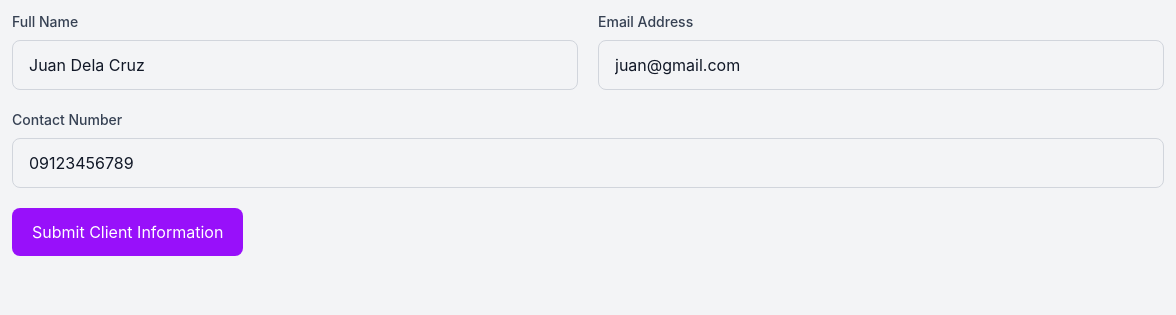
Test: ClientInformation Component › shows success message when all fields are complete
The image size is (1176, 315).
Click the button "Submit Client Information". click: point(128, 232)
box: top-left (12, 208), bottom-right (243, 256)
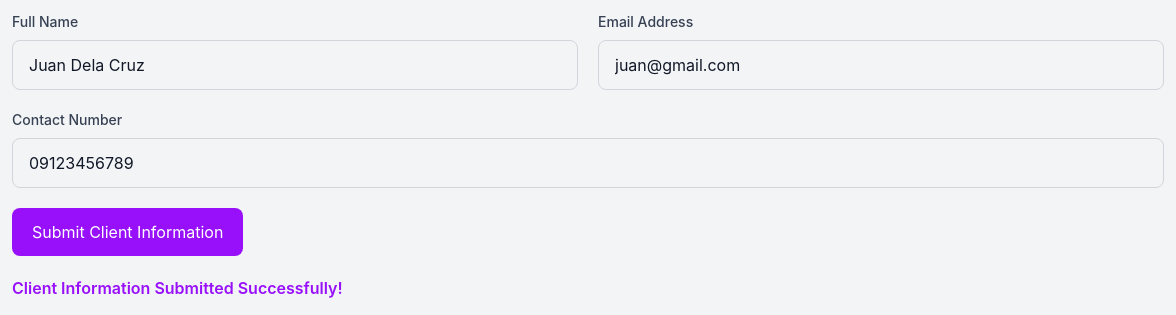
Expected: the text "Client Information Submitted Successfully!" is shown, top-left (12, 278), bottom-right (343, 298)
